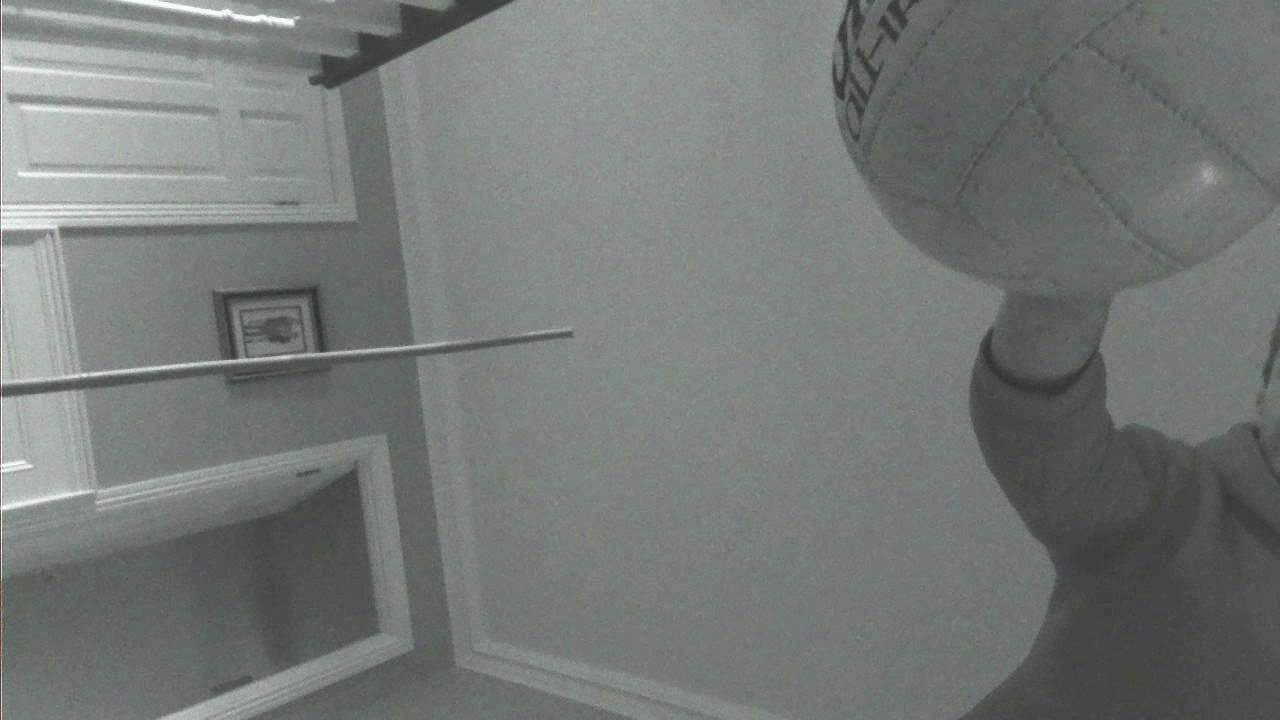Football-Spotter: (832, 0, 1279, 294)
